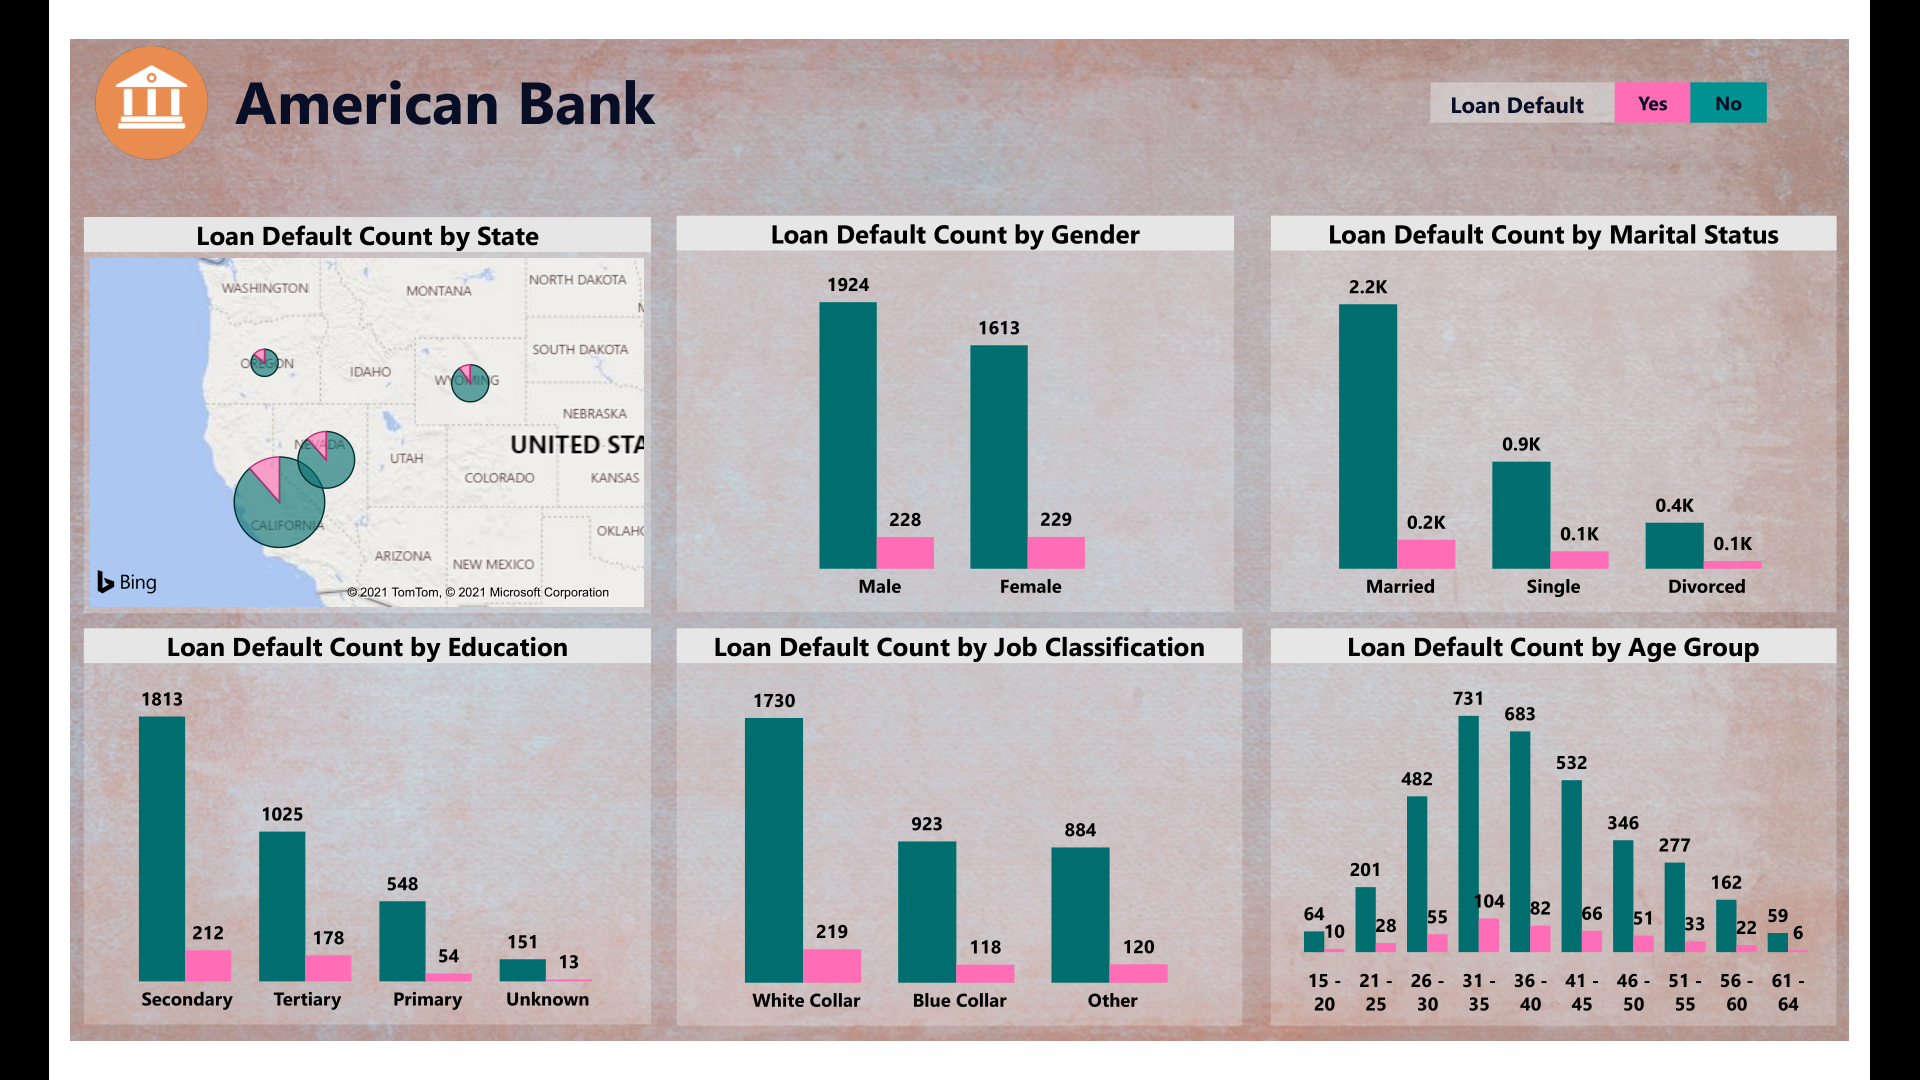

What the dashboard file says about the page in this screenshot:
{"tool":"powerbi","page":{"name":"Loan Default per Customer Demographics","canvas":[1280,720],"ordinal":2},"visuals":[{"type":"textbox","box":[114,10.3,322.6,71.9],"z":0},{"type":"image","box":[10.3,0,95.5,91.4],"z":1000},{"type":"clusteredColumnChart","title":"Loan Default Count by Education","fields":{"Category":["AmericaBankNew.Education"],"Y":["CountNonNull(AmericaBankNew.Customer ID)"],"Series":["AmericaBankNew.Loan Default"]},"box":[9.8,423.8,408,285],"z":2000},{"type":"clusteredColumnChart","title":"Loan Default Count by Gender","fields":{"Series":["AmericaBankNew.Loan Default"],"Category":["AmericaBankNew.Gender"],"Y":["CountNonNull(AmericaBankNew.Customer ID)"]},"box":[436,127,400.6,284.6],"z":3000},{"type":"clusteredColumnChart","title":"Loan Default Count by Job Classification","fields":{"Y":["CountNonNull(AmericaBankNew.Customer ID)"],"Series":["AmericaBankNew.Loan Default"],"Category":["AmericaBankNew.Job Classification"]},"box":[436,423.8,406.7,285.8],"z":4000},{"type":"map","title":"Loan Default Count by State","fields":{"Category":["AmericaBankNew.State"],"Size":["CountNonNull(AmericaBankNew.Customer ID)"],"Series":["AmericaBankNew.Loan Default"]},"box":[10.4,127.5,408,285],"z":5000},{"type":"clusteredColumnChart","title":"Loan Default Count by Marital Status","fields":{"Series":["AmericaBankNew.Loan Default"],"Y":["CountNonNull(AmericaBankNew.Customer ID)"],"Category":["AmericaBankNew.Marital Status"]},"box":[863.5,127,406.7,284.6],"z":6000},{"type":"clusteredColumnChart","title":"Loan Default Count by Age Group","fields":{"Series":["AmericaBankNew.Loan Default"],"Y":["CountNonNull(AmericaBankNew.Customer ID)"],"Category":["AmericaBankNew.Age Groups"]},"box":[863.5,423.8,406.7,285.8],"z":7000},{"type":"textbox","box":[978.4,31.1,132.7,29],"z":8000},{"type":"textbox","box":[1111.1,31.1,54.9,29],"z":9000},{"type":"textbox","box":[1166,31.1,54.9,29],"z":10000}]}

Visuals, with their boxes in screenshot pixels (x1, y1, x2, y2), scaled from the page's 1280x720 canvas onto the 1920x1080 screenshot:
textbox: <box>171,15,655,123</box>
image: <box>15,0,159,137</box>
"Loan Default Count by Education" clusteredColumnChart: <box>15,636,627,1063</box>
"Loan Default Count by Gender" clusteredColumnChart: <box>654,190,1255,617</box>
"Loan Default Count by Job Classification" clusteredColumnChart: <box>654,636,1264,1064</box>
"Loan Default Count by State" map: <box>16,191,628,619</box>
"Loan Default Count by Marital Status" clusteredColumnChart: <box>1295,190,1905,617</box>
"Loan Default Count by Age Group" clusteredColumnChart: <box>1295,636,1905,1064</box>
textbox: <box>1468,47,1667,90</box>
textbox: <box>1667,47,1749,90</box>
textbox: <box>1749,47,1831,90</box>
